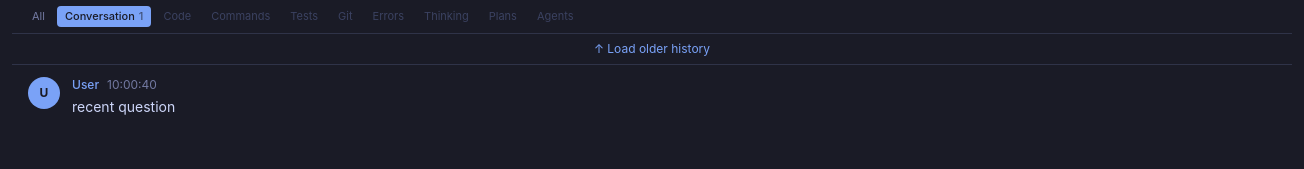
Scenario: when a session's conversation loads › should walk the cursor and drop the button when history is exhausted
The width and height of the screenshot is (1304, 169).
Click the button with test id "load-older": click(652, 49) [12,34,1292,64]
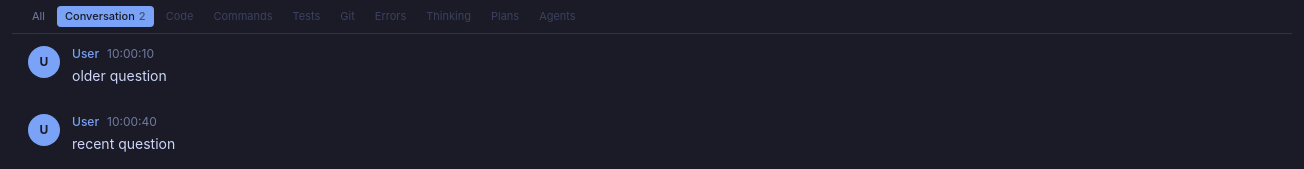
Expected: the button with test id "load-older" is gone
